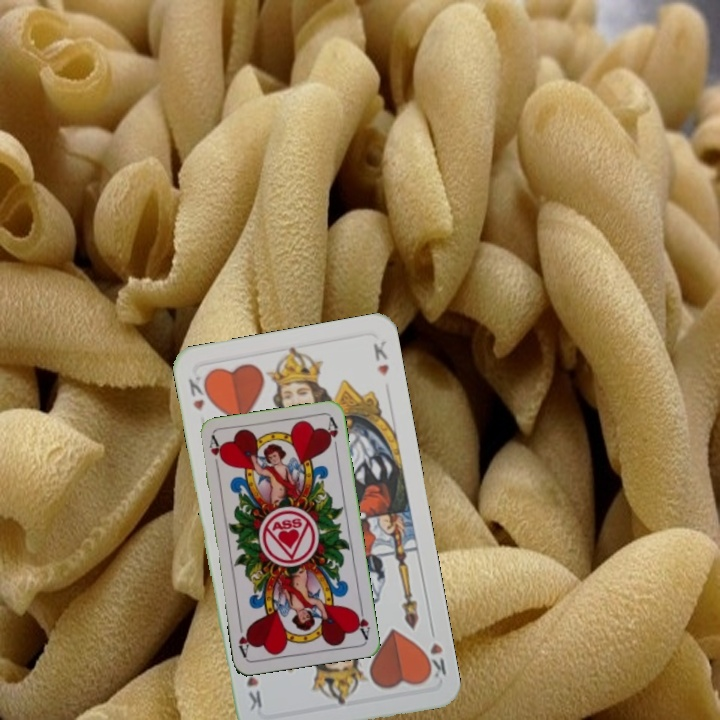HA: (350, 601, 372, 641), (205, 433, 225, 473)
HK: (418, 622, 449, 683), (184, 369, 213, 414)
